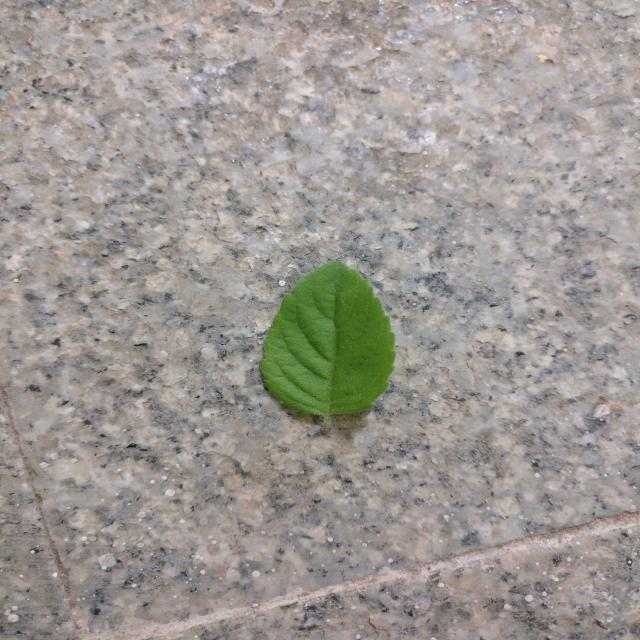tulsi: (260, 261, 395, 429)
